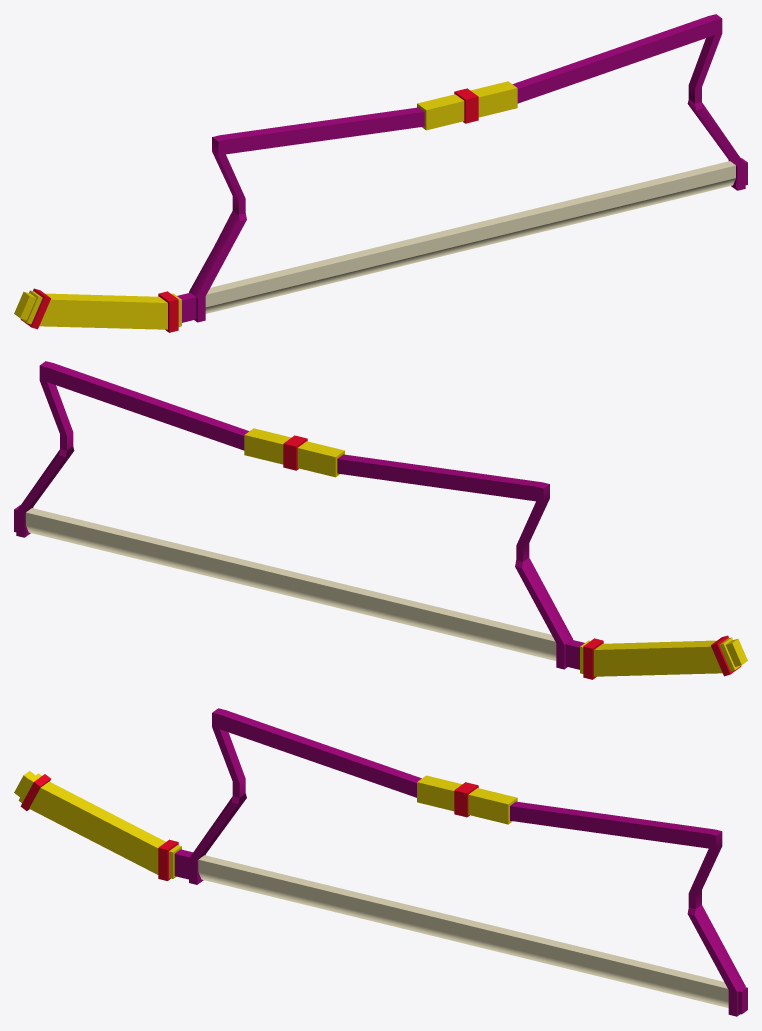
Rendered from Outil_ScieAOs.fbx.
3 renders of one model, top to bottom at view 1: azimuth 30°, elevation 25°; view 2: azimuth 150°, elevation 25°; view 3: azimuth 330°, elevation 25°, orthographic.
Visible parts, largest first — view 1: outils03:pCube1; view 2: outils03:pCube1; view 3: outils03:pCube1.
Part boxes in pixels (x1,y1,x2,y2): outils03:pCube1: (14, 14, 747, 332); outils03:pCube1: (14, 361, 747, 679); outils03:pCube1: (14, 708, 747, 1016).
Bounding box in the file's own units: 6.85 × 1.59 × 0.1832.
